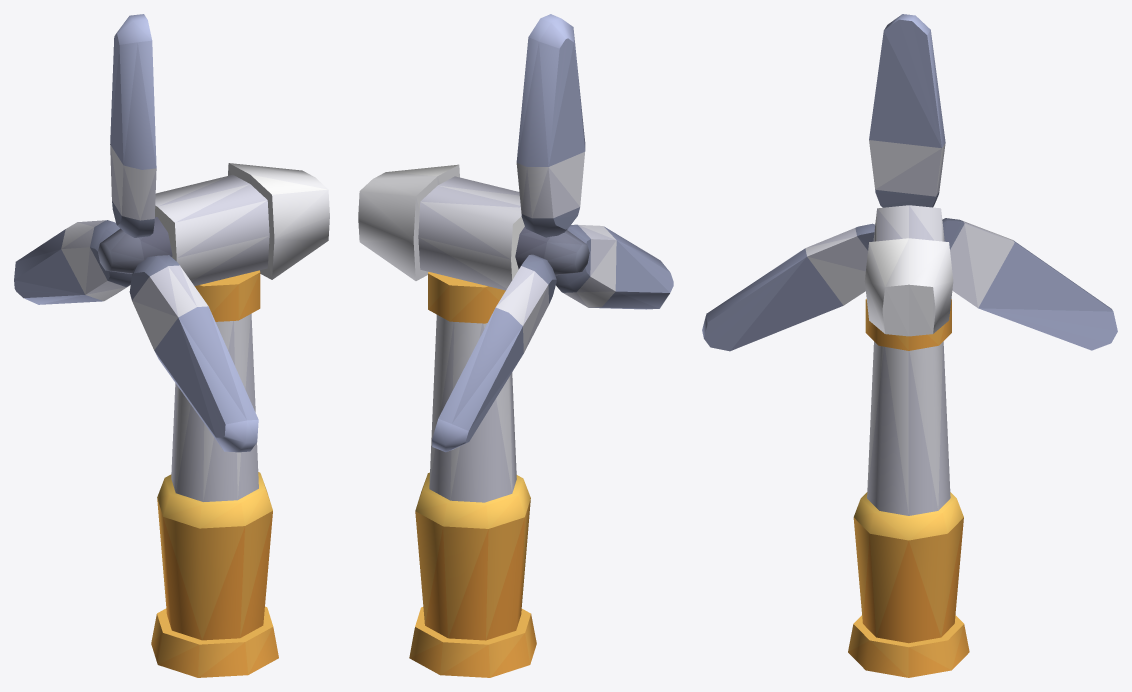
The model's file is windmill-low.obj.
3 renders of one model, left to right at view 1: azimuth 30°, elevation 25°; view 2: azimuth 150°, elevation 25°; view 3: azimuth 270°, elevation 25°, orthographic. The views are drawn at different scales.
Size of the model in its own units: 0.6047 by 1.79 by 1.13.
